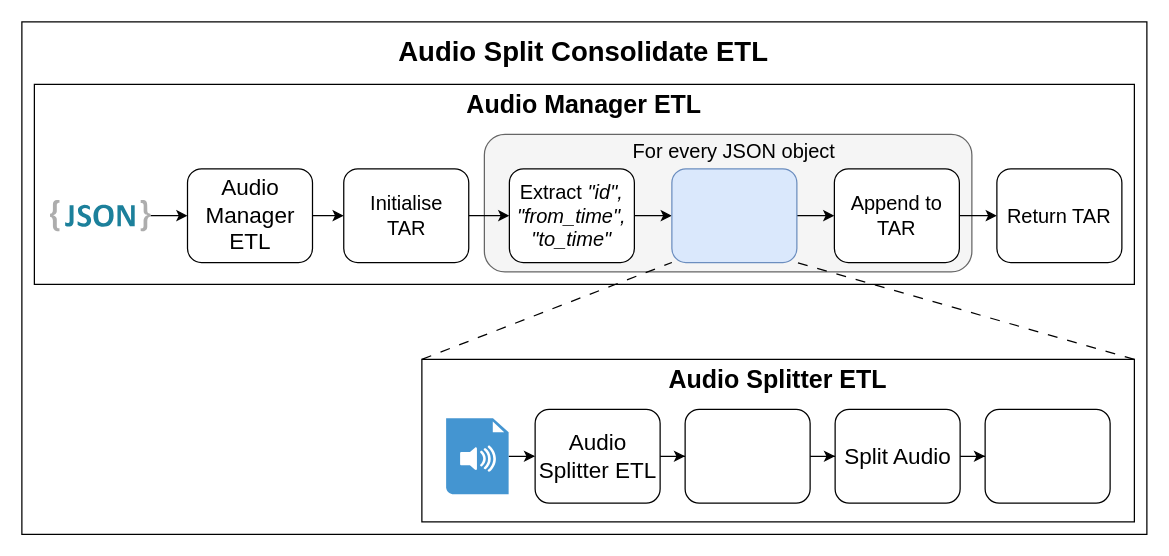
Some shapes in this 1169 by 556 pixel diagram are drawn without their labels. Here are the shapes that lost their labels. From the top down, the centre of each, then its label:
(x=734, y=215): ETL GET "id" with etl_args
(x=747, y=455): Parse etl_args
(x=1047, y=455): Return Audio Bytes
